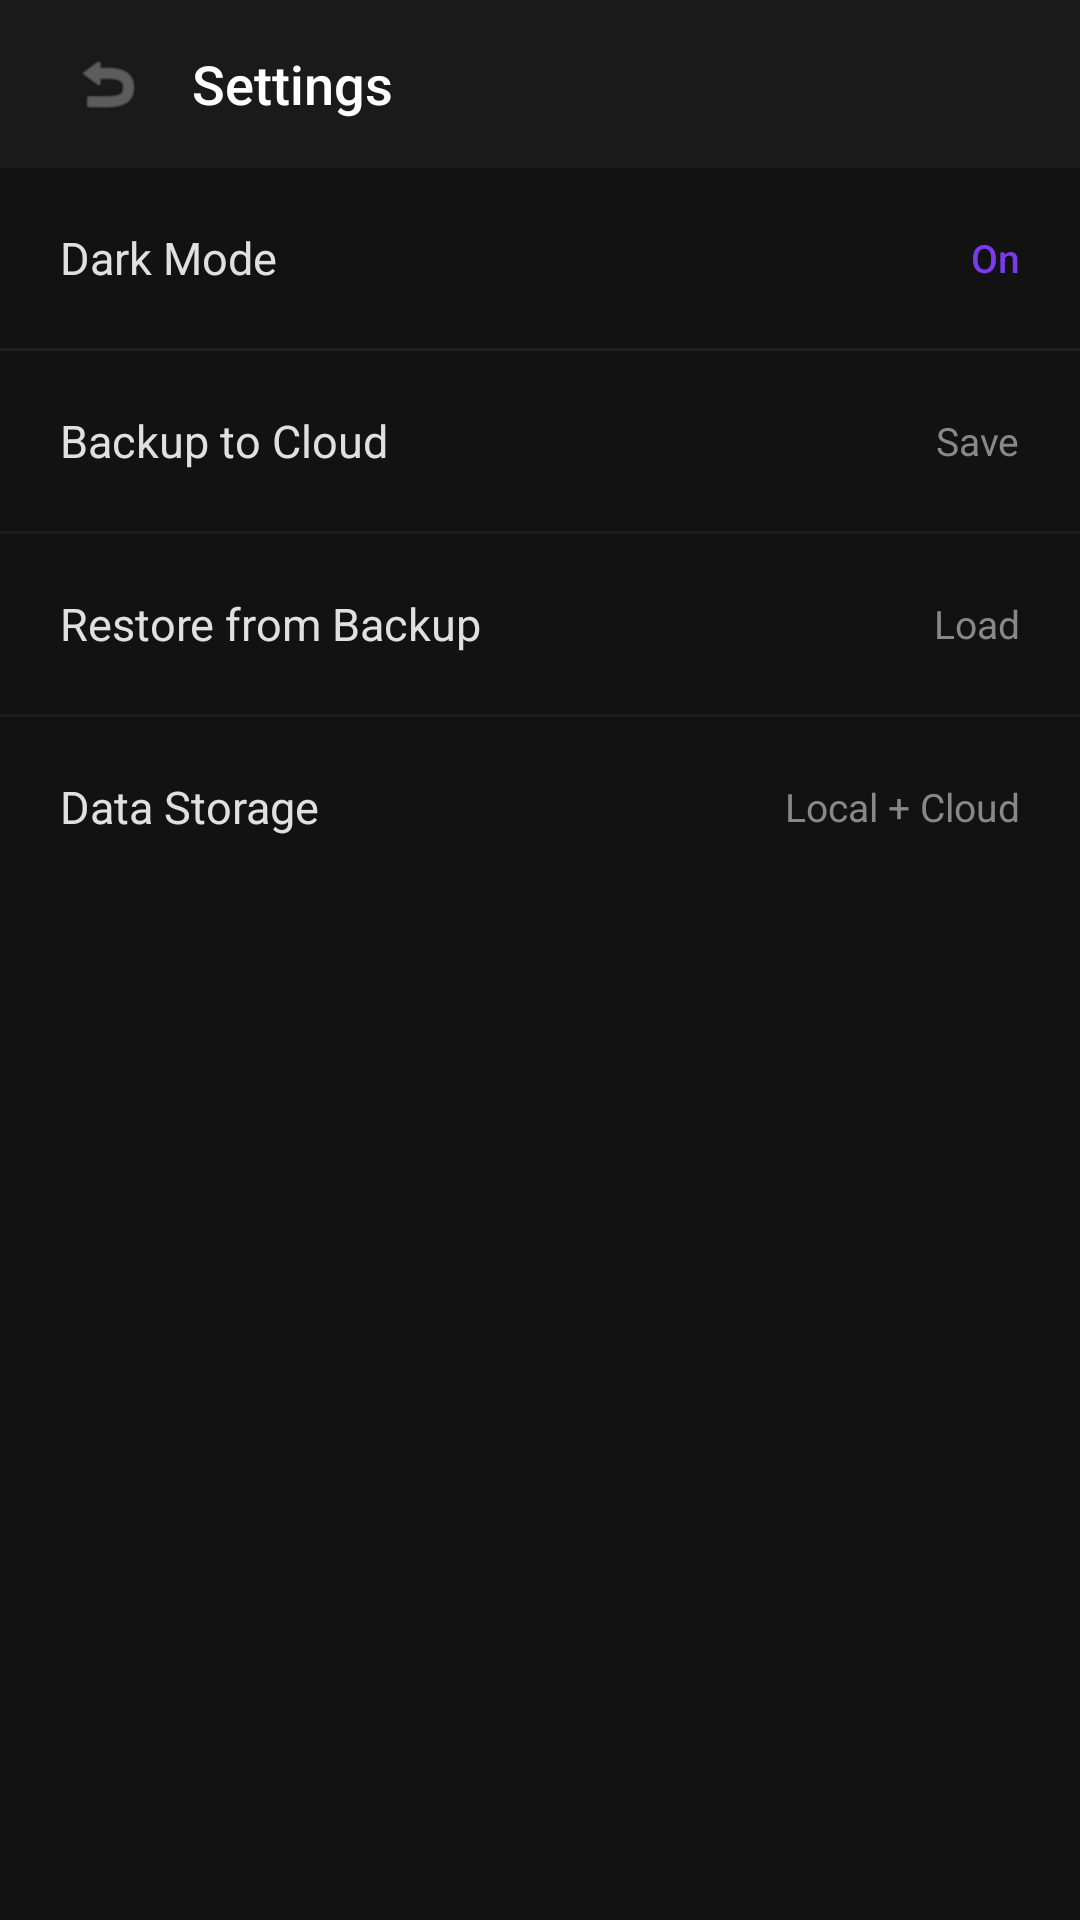

Icons on this 1080px x 1920px Android screen, each with its box as (x1, y1, x2, y2):
Back: (83, 61, 135, 108)
